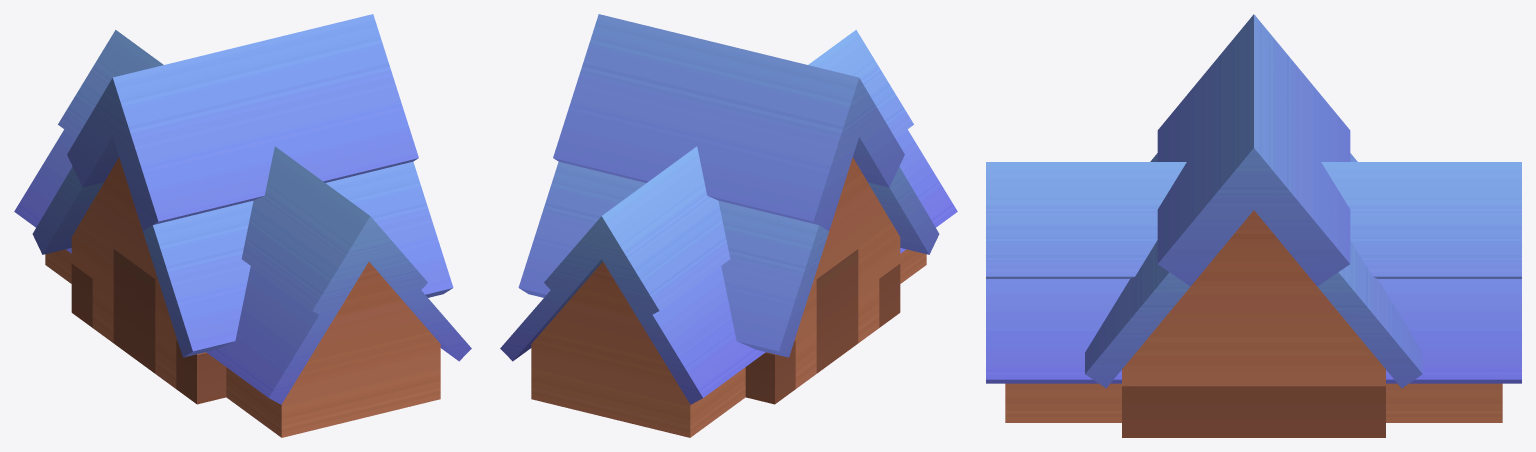
Rendered from unit-mansion.glb.
3 renders of one model, left to right at view 1: azimuth 30°, elevation 25°; view 2: azimuth 150°, elevation 25°; view 3: azimuth 270°, elevation 25°, orthographic. The views are drawn at different scales.
Parts seen in each view (by area): view 1: unit-mansion; view 2: unit-mansion; view 3: unit-mansion.
Boxes of the visible parts, x1,y1,x2,y2 form: unit-mansion: (14,14,471,437); unit-mansion: (500,14,957,437); unit-mansion: (986,14,1521,437).
Bounding box in the file's own units: 0.36 × 0.3781 × 0.6094.
Materials: 1 (1 with a texture image).
